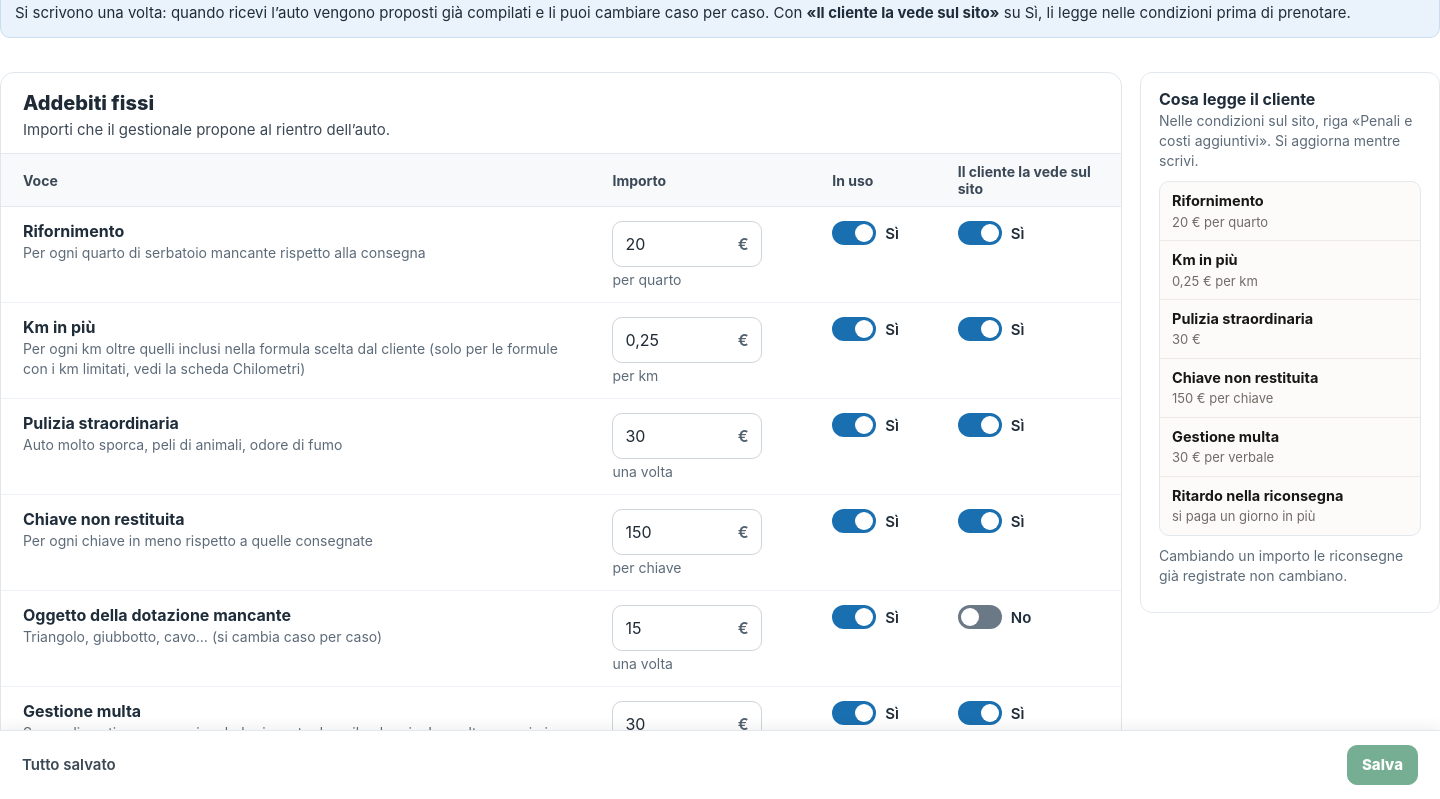
Test: un importo vuoto non si salva
The image size is (1440, 799).
Clear the 4th field named "Chiave non restituita" at (688, 532), box 612,509 -> 762,555
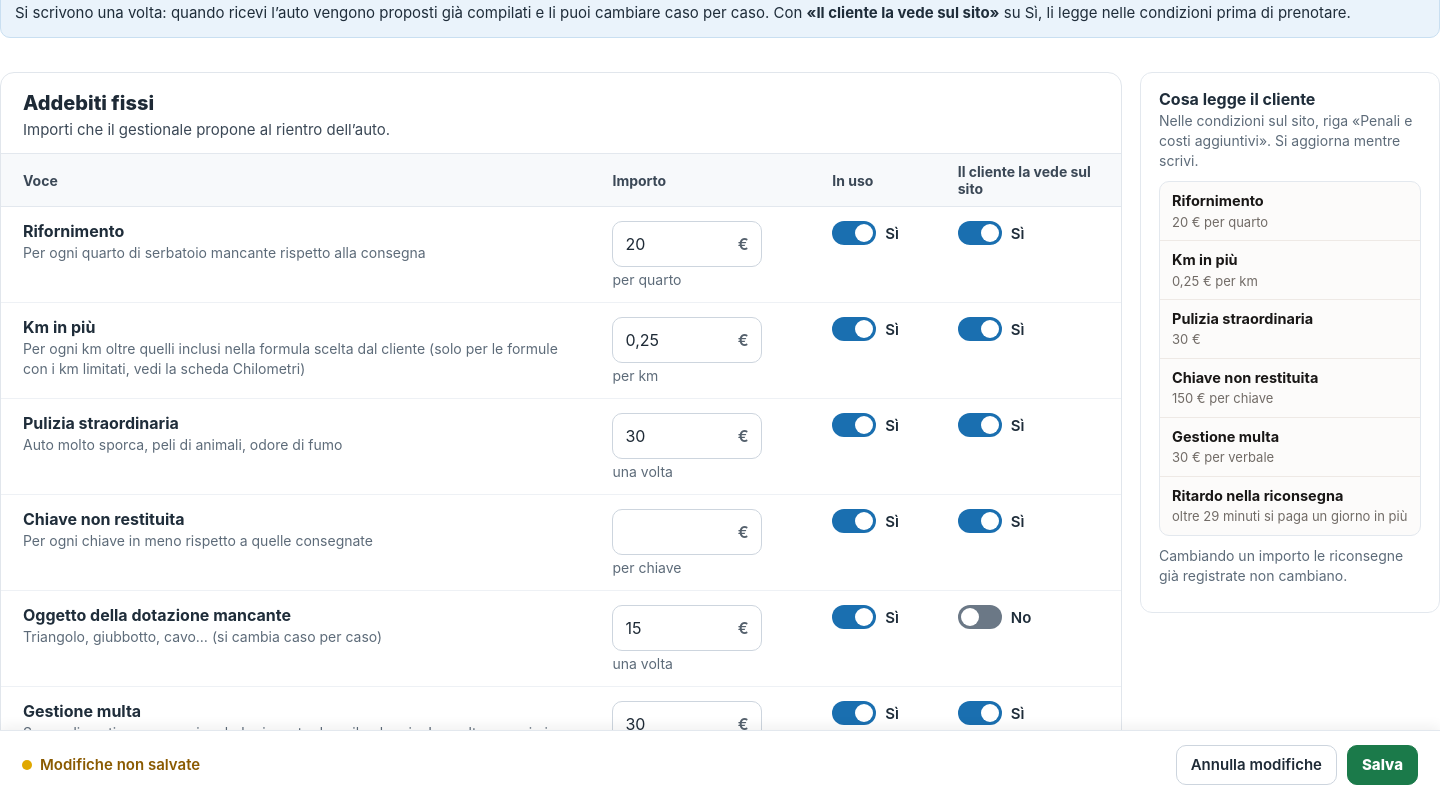
Click the button "Salva" at (1382, 765), box 1347,745 -> 1418,785
(page scrolled)
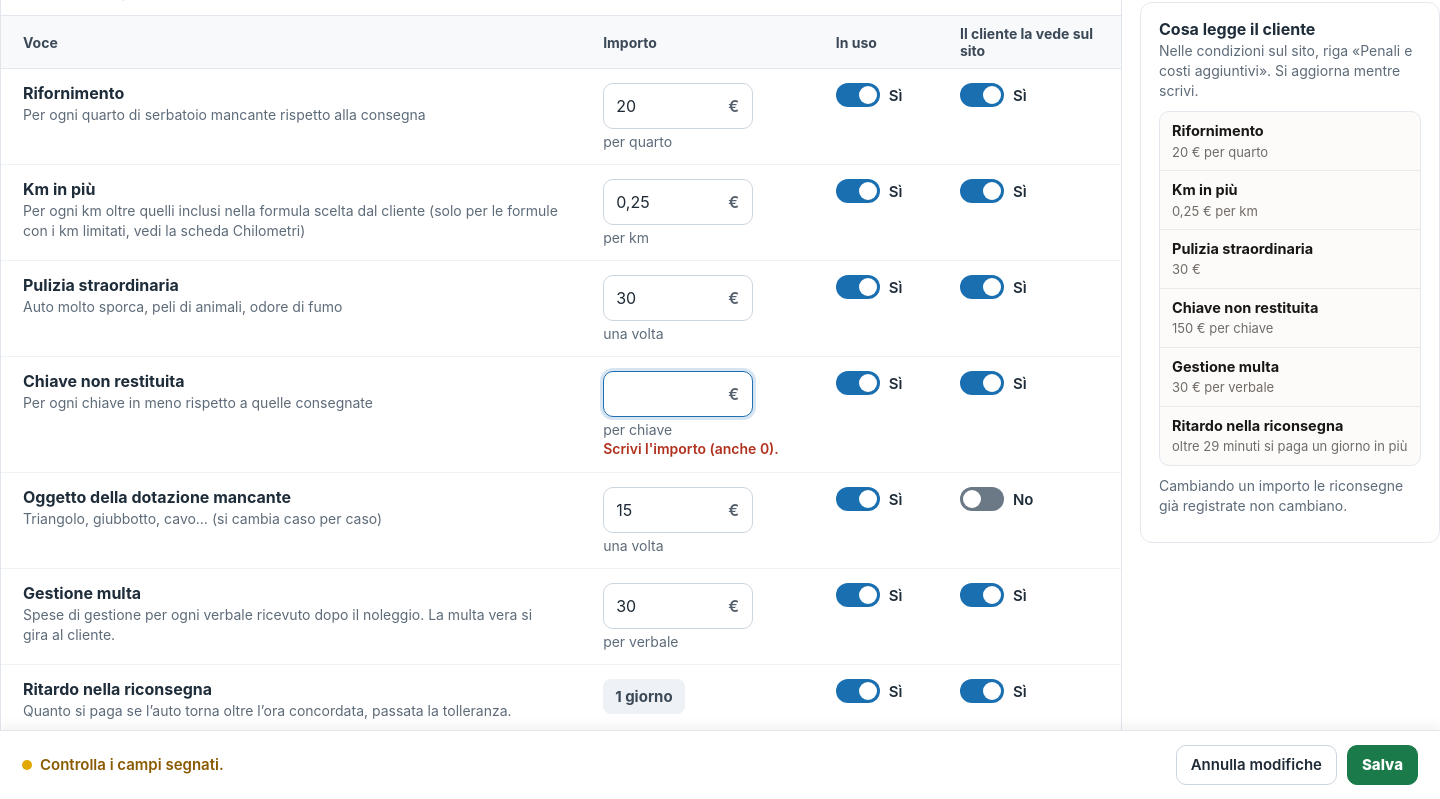
expect the text "Scrivi l'importo (anche 0)." is shown: met, box 603,440 -> 779,457
